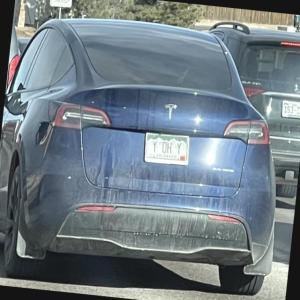Plate: (144, 132, 189, 166)
